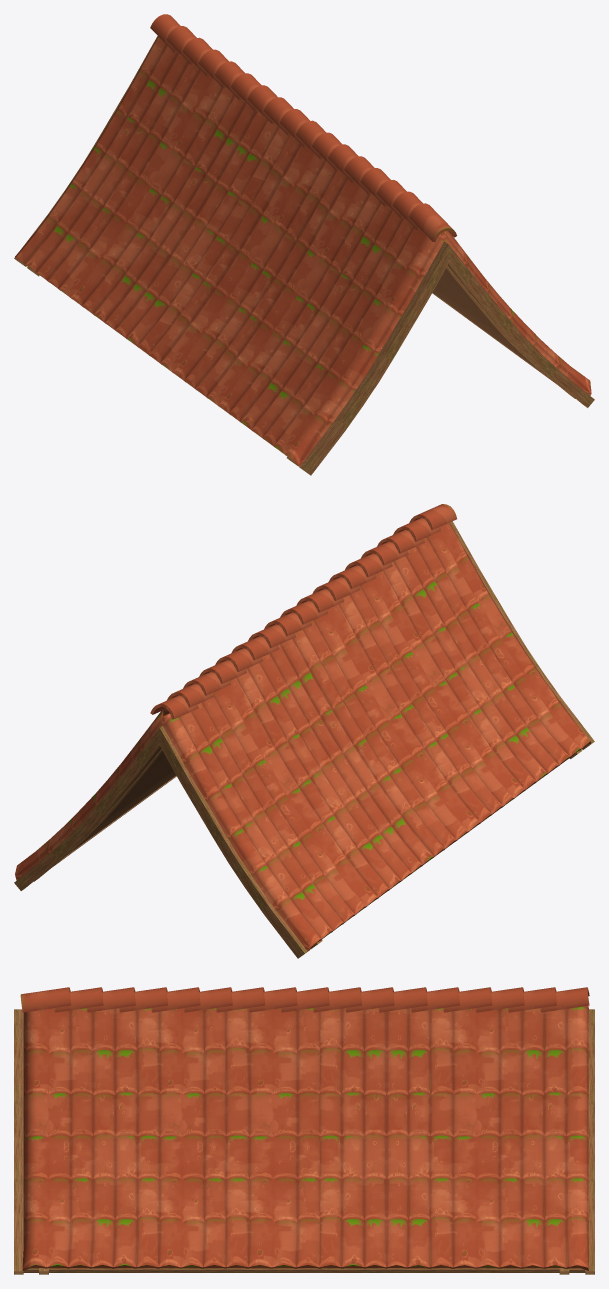
The model's file is Roof_RoundTiles_6x12.glb.
The picture shows the model from 3 angles, top to bottom: view 1: azimuth 30°, elevation 25°; view 2: azimuth 150°, elevation 25°; view 3: azimuth 270°, elevation 25°; orthographic projection.
Visible parts, largest first — view 1: Roof_RoundTiles_6x12; view 2: Roof_RoundTiles_6x12; view 3: Roof_RoundTiles_6x12.
Part boxes in pixels (left/top/right/bottom): Roof_RoundTiles_6x12: left=14, top=14, right=594, bottom=475; Roof_RoundTiles_6x12: left=14, top=504, right=594, bottom=958; Roof_RoundTiles_6x12: left=14, top=987, right=594, bottom=1274.
Size of the model in its own units: 8.25 by 5.67 by 13.66.
Materials: 2 (2 with a texture image).
